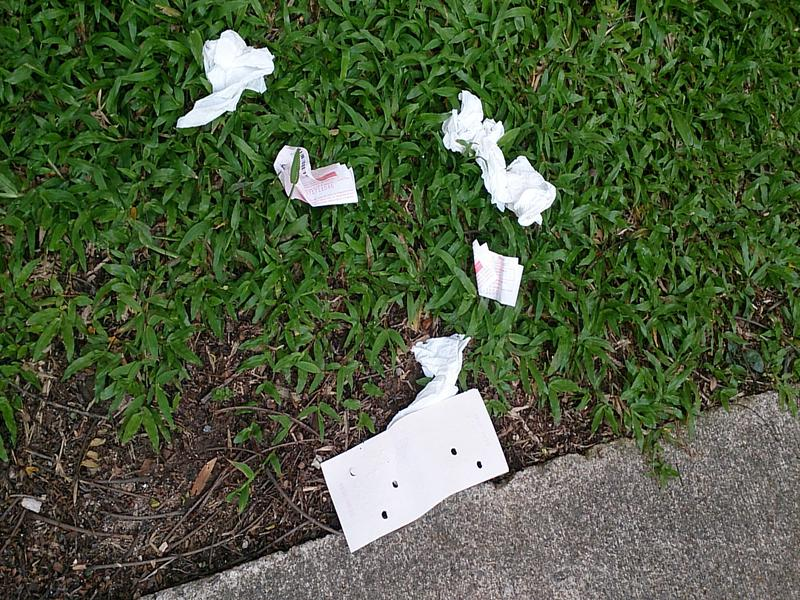paper: (304, 383, 526, 553), (428, 90, 559, 228), (358, 319, 489, 425), (160, 22, 279, 137), (263, 137, 370, 210), (455, 237, 533, 311)
